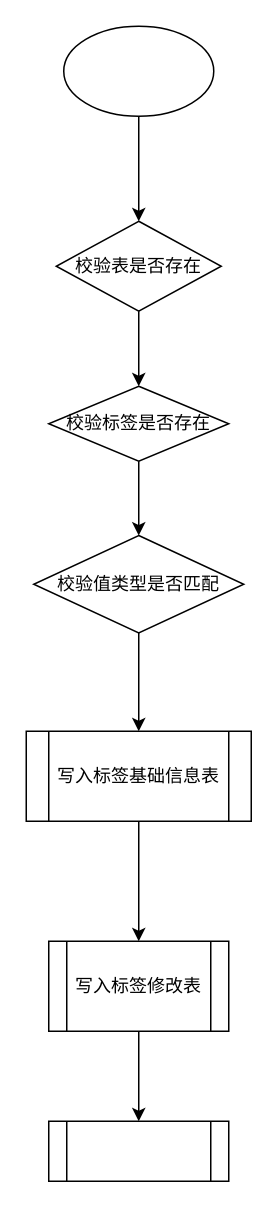
The diagram is 278 pixels wide and 1208 high, and some of its shapes have lost their labels. Each missing label, with the box of its shape:
写入标签评审表: (47, 1120, 229, 1181)
导入标签: (62, 25, 214, 116)
